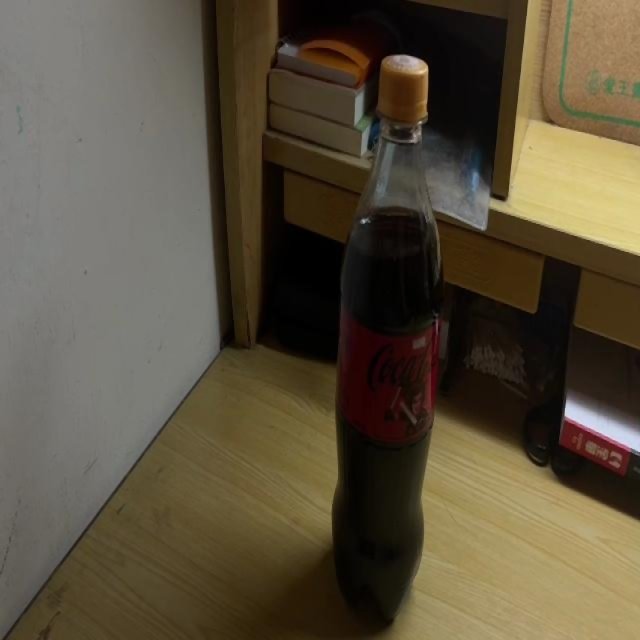Coca-Cola: (332, 54, 442, 623)
